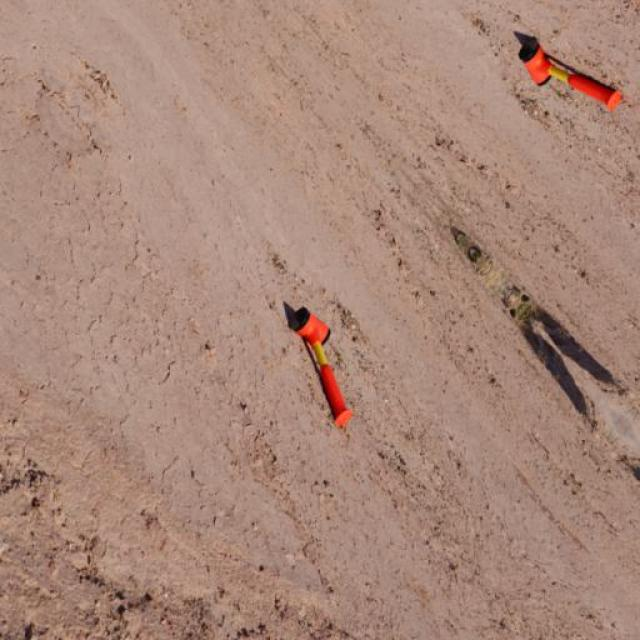mallet: (512, 28, 622, 112), (282, 299, 352, 429)
